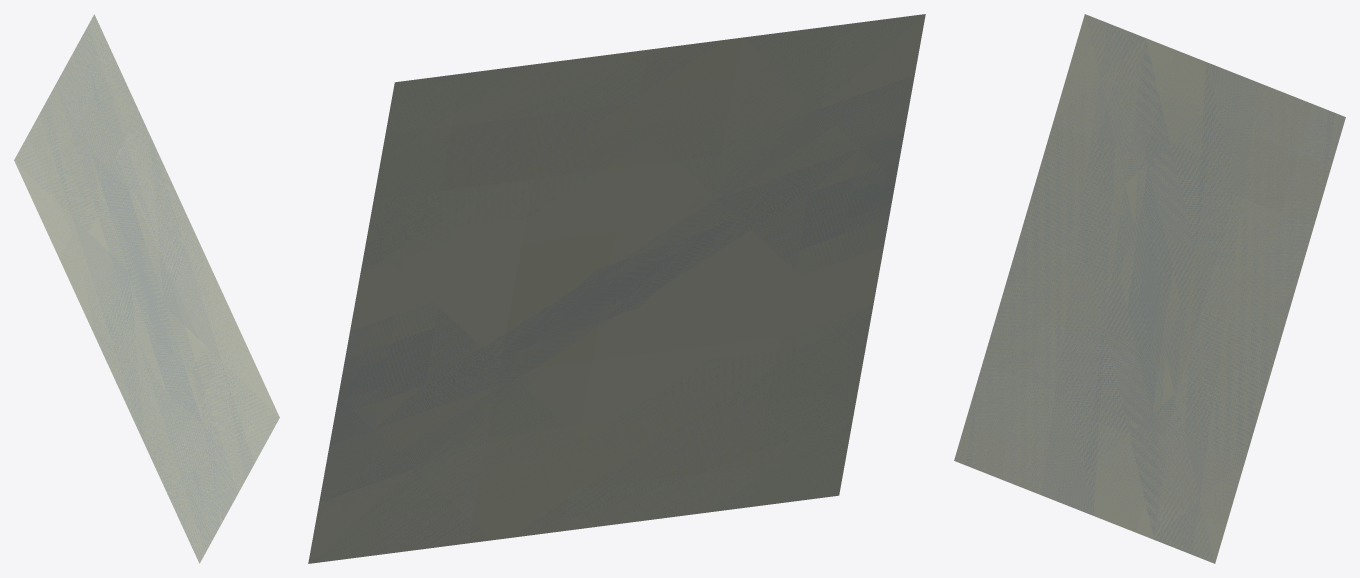
Rendered from 人民英雄纪念碑223.dae.
3 renders of one model, left to right at view 1: azimuth 30°, elevation 25°; view 2: azimuth 150°, elevation 25°; view 3: azimuth 270°, elevation 25°, orthographic. The views are drawn at different scales.
Visible parts, largest first — view 1: SketchUp; view 2: SketchUp; view 3: SketchUp.
Boxes of the visible parts, <box> form: SketchUp: <box>14,14,279,563</box>; SketchUp: <box>308,14,925,563</box>; SketchUp: <box>954,14,1345,563</box>.
Size of the model in its own units: 12.64 by 12.9 by 14.08.
